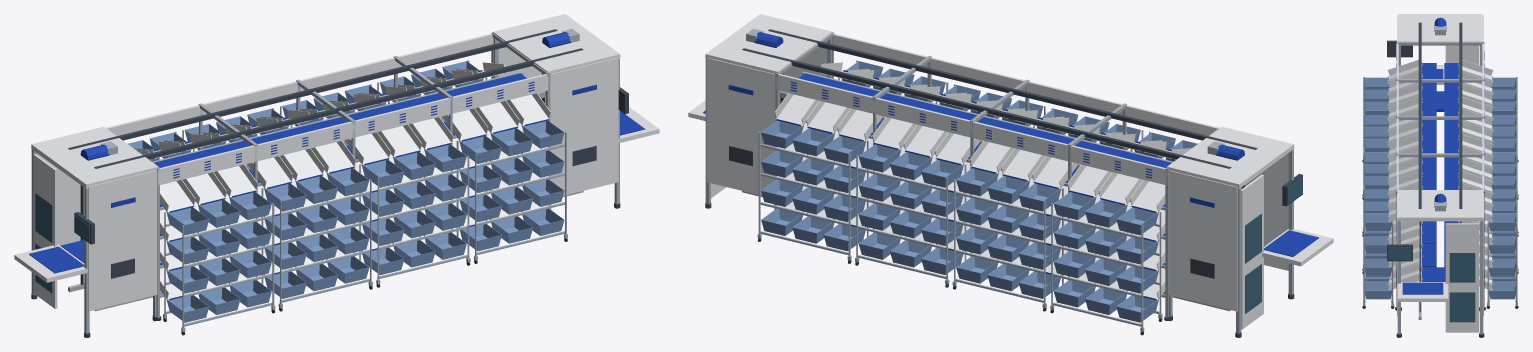
Rendered from SM_MPR_Tiangong96_LOD1.fbx.
3 views of the same model, side by side, from view 1: azimuth 30°, elevation 25°; view 2: azimuth 150°, elevation 25°; view 3: azimuth 270°, elevation 25° (orthographic). The views are drawn at different scales.
Visible parts, largest first — view 1: SM_MPR_Tiangong96_LOD1; view 2: SM_MPR_Tiangong96_LOD1; view 3: SM_MPR_Tiangong96_LOD1.
Part boxes in pixels (x1=…): SM_MPR_Tiangong96_LOD1: x1=14, y1=14, x2=659, y2=337; SM_MPR_Tiangong96_LOD1: x1=688, y1=14, x2=1333, y2=337; SM_MPR_Tiangong96_LOD1: x1=1362, y1=14, x2=1518, y2=337.
Size of the model in its own units: 980 by 277 by 246.
